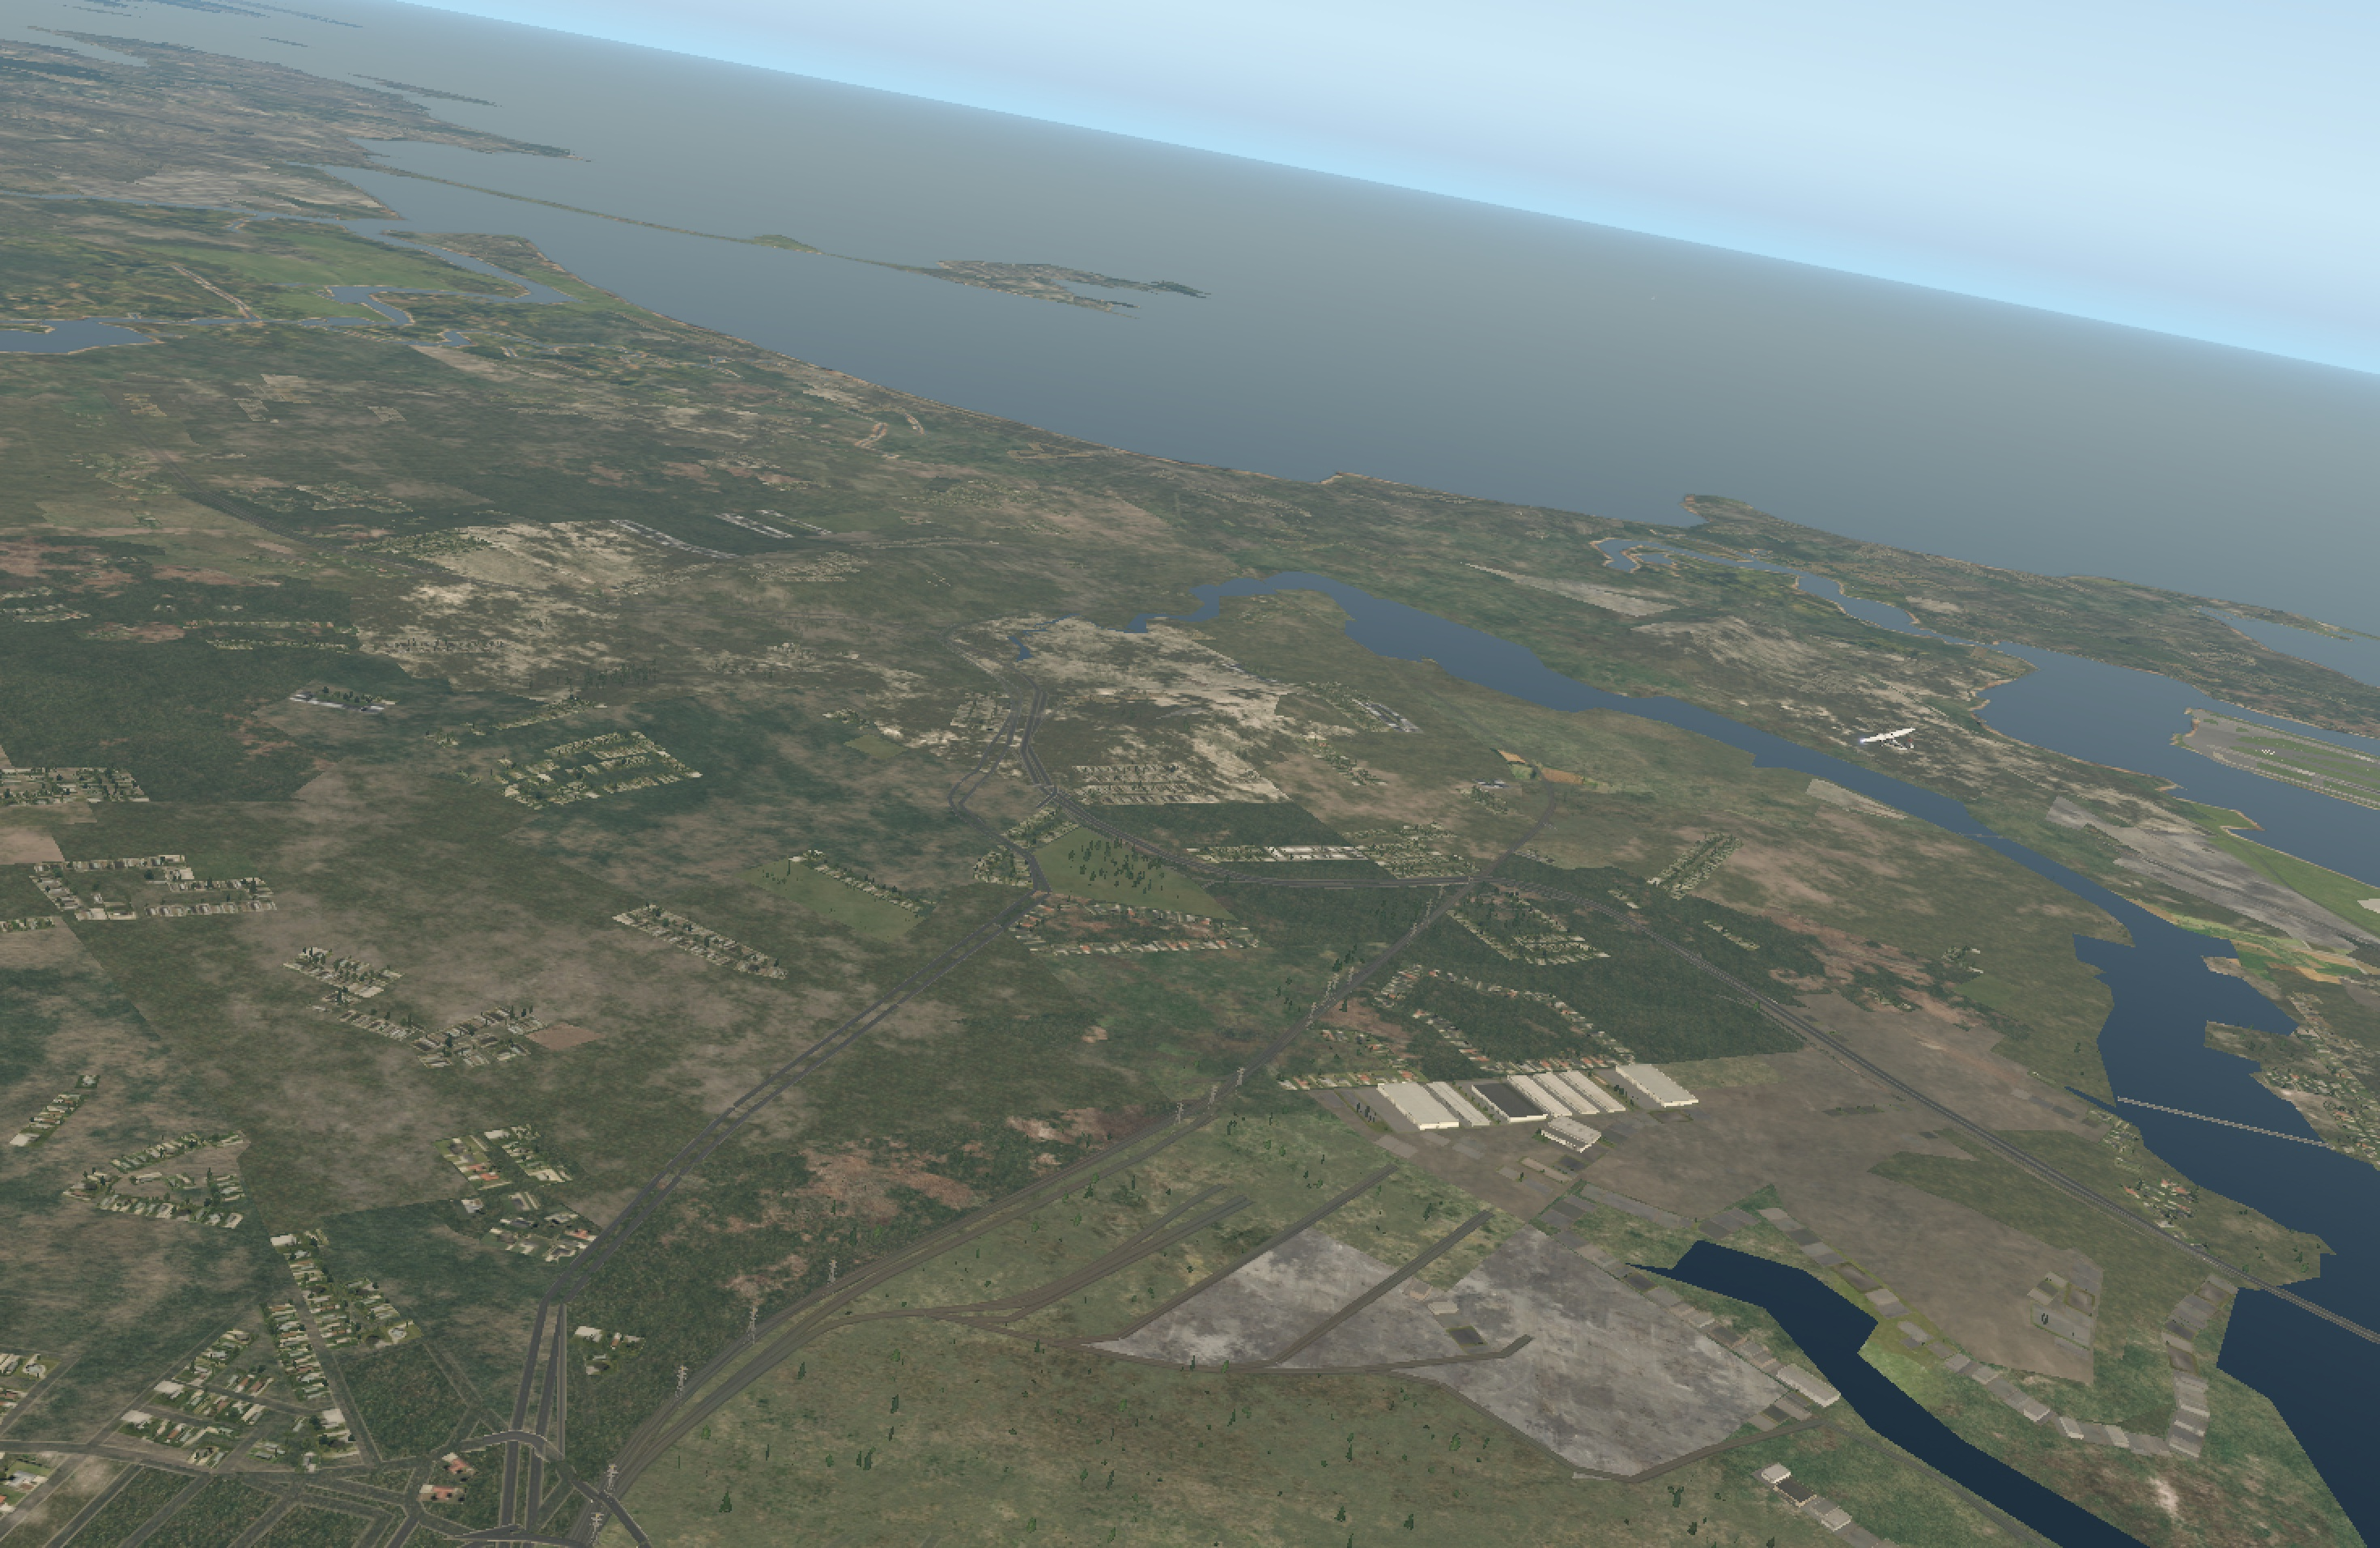aircraft: (1865, 731, 1908, 746)
